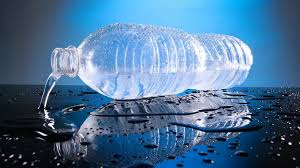Botella: (50, 23, 252, 99)
